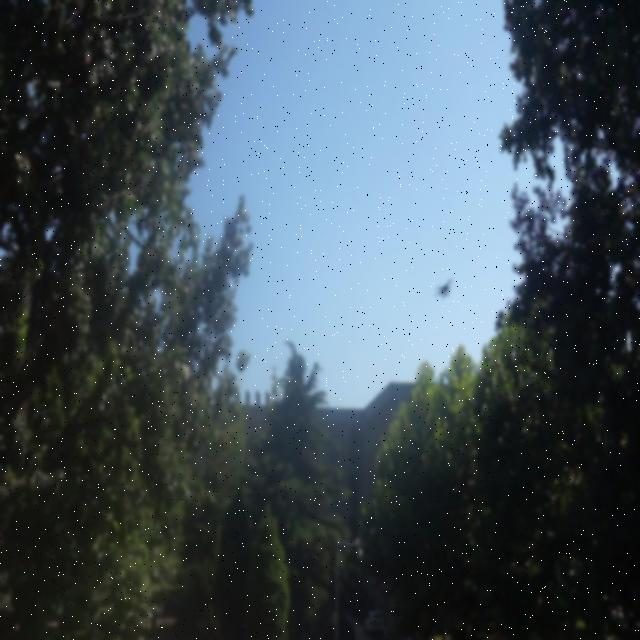UAV: (435, 278, 453, 300)
